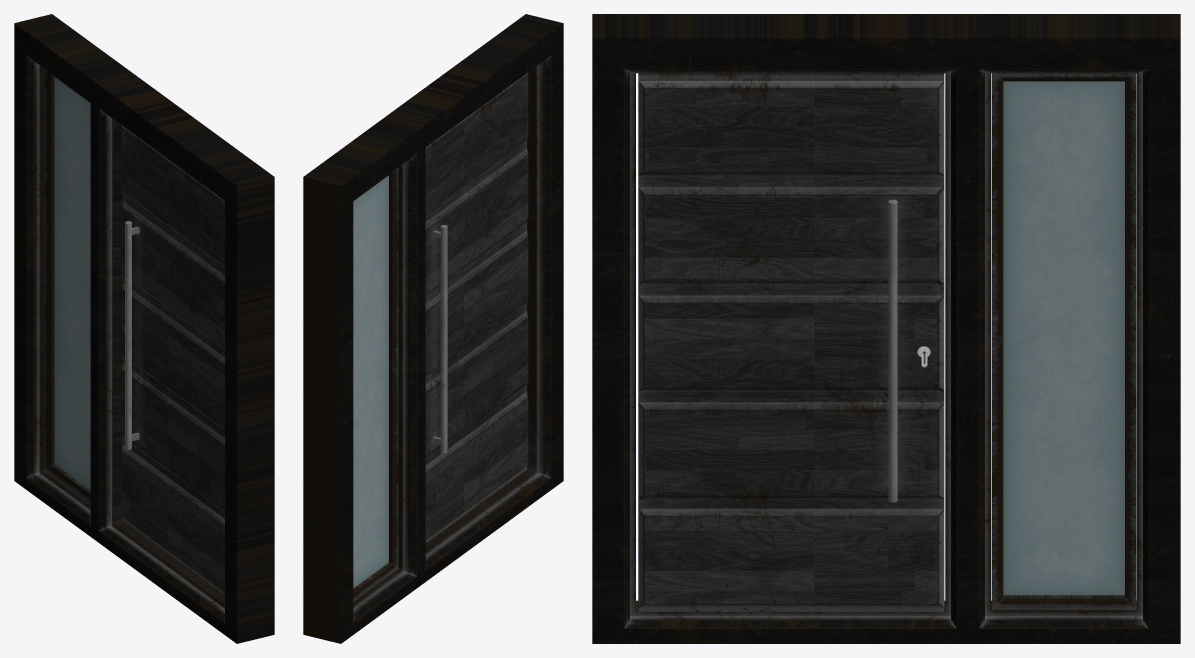
File: door_modern.glb
3 views of the same model, side by side, from view 1: azimuth 30°, elevation 25°; view 2: azimuth 150°, elevation 25°; view 3: azimuth 270°, elevation 25° (orthographic). The views are drawn at different scales.
Visible parts, largest first — view 1: door; view 2: door; view 3: door.
Boxes of the visible parts, x1=… form: door: x1=14, y1=14, x2=274, y2=643; door: x1=303, y1=14, x2=563, y2=643; door: x1=592, y1=14, x2=1180, y2=643.
Size of the model in its own units: 1.18 by 11.42 by 10.05.
Materials: 1 (1 with a texture image).
